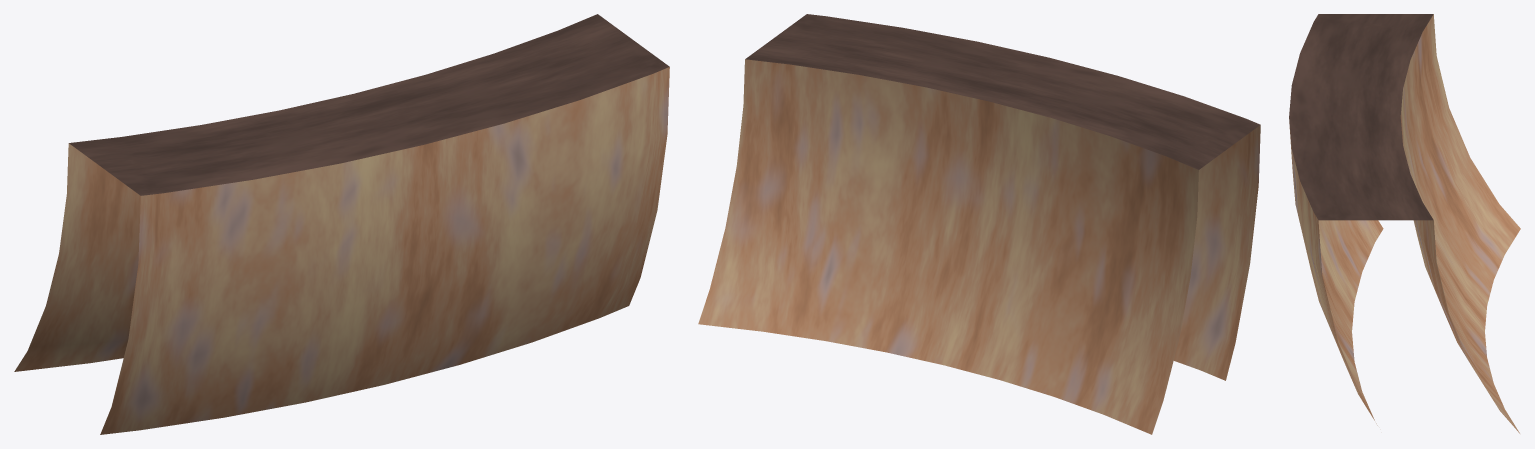
The model's file is FI_037_038_francos_building_wall_short.glb.
The picture shows the model from 3 angles, left to right: view 1: azimuth 30°, elevation 25°; view 2: azimuth 150°, elevation 25°; view 3: azimuth 270°, elevation 25°; orthographic projection. The views are drawn at different scales.
Parts seen in each view (by area): view 1: wall_short; view 2: wall_short; view 3: wall_short.
Boxes of the visible parts, box(x1,y1,x2,y2) form: wall_short: box(14, 14, 669, 434); wall_short: box(698, 14, 1260, 434); wall_short: box(1289, 14, 1520, 433).
Bounding box in the file's own units: 3 × 1.46 × 1.43.
Materials: 2 (2 with a texture image).
